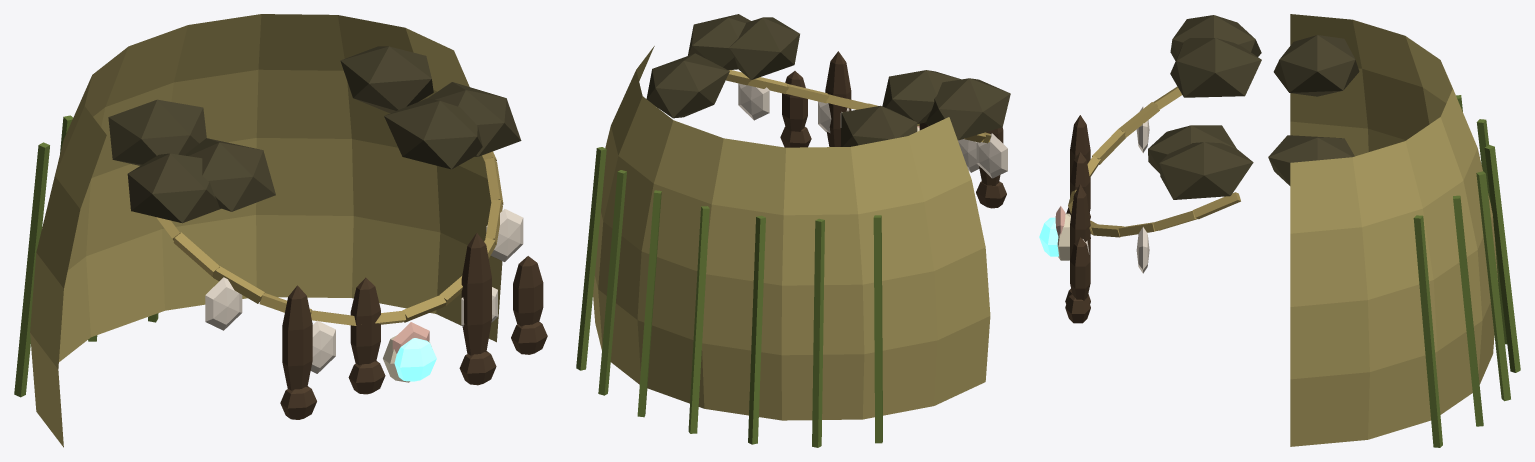
File: mud_shaman_chest.glb
The picture shows the model from 3 angles, left to right: view 1: azimuth 30°, elevation 25°; view 2: azimuth 150°, elevation 25°; view 3: azimuth 270°, elevation 25°; orthographic projection. The views are drawn at different scales.
Visible parts, largest first — view 1: mud_shaman_chest; view 2: mud_shaman_chest; view 3: mud_shaman_chest.
Part boxes in pixels (x1,y1,x2,y2): mud_shaman_chest: (14,14,547,447); mud_shaman_chest: (576,14,1010,447); mud_shaman_chest: (1039,14,1520,447).
Bounding box in the file's own units: 1.04 × 0.7394 × 1.11.
